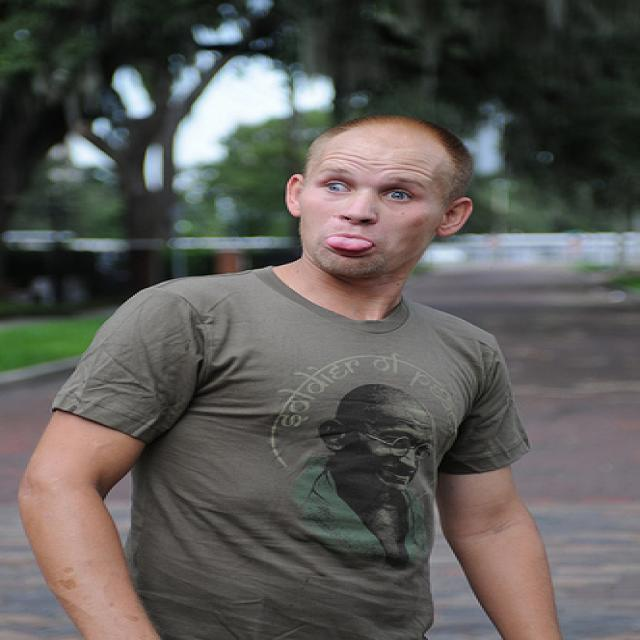T-shirt: (37, 265, 536, 640)
